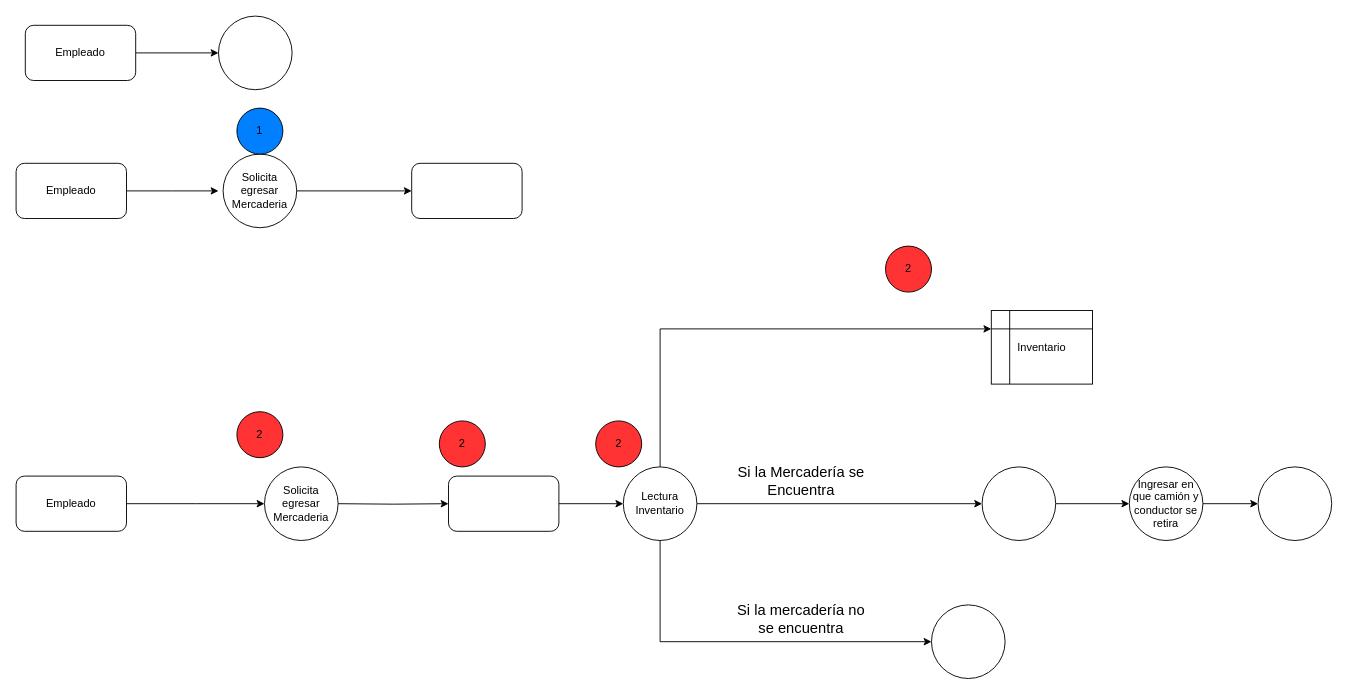
The diagram is 1348 pixels wide and 695 high, and some of its shapes have lost their labels. Each missing label, with the box of its shape:
Emitir informe de viaje: (1257, 466, 1332, 540)
Emitir mensaje de mercadería no encontrada: (931, 604, 1005, 678)
Ingresar el destino de la mercaderia: (981, 466, 1056, 540)
Sistema gestor: (448, 475, 559, 531)
Sistema Gestor Deposito: (218, 15, 292, 90)
Sistena: (411, 162, 522, 218)
